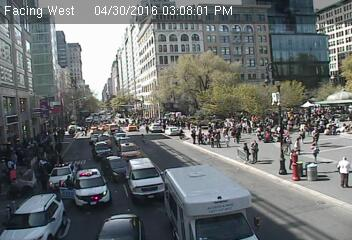neg: (58, 64, 76, 88), (119, 63, 132, 81), (42, 56, 54, 72), (134, 71, 146, 86)
pos: (332, 153, 351, 187), (247, 140, 264, 164), (308, 142, 325, 164)
